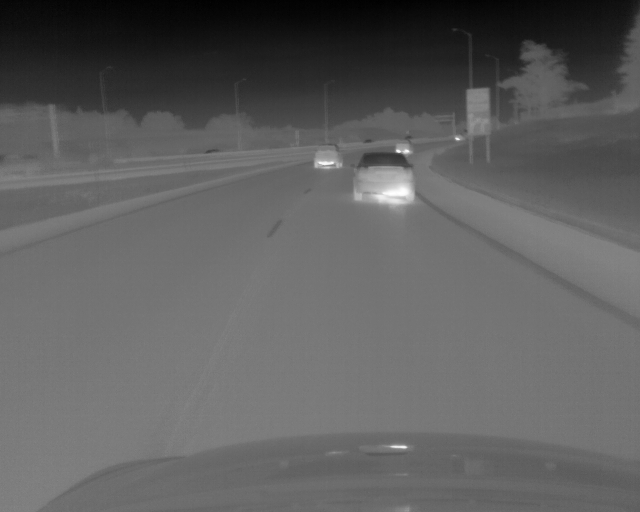car: (351, 151, 416, 202), (314, 143, 342, 168), (395, 137, 412, 152)
